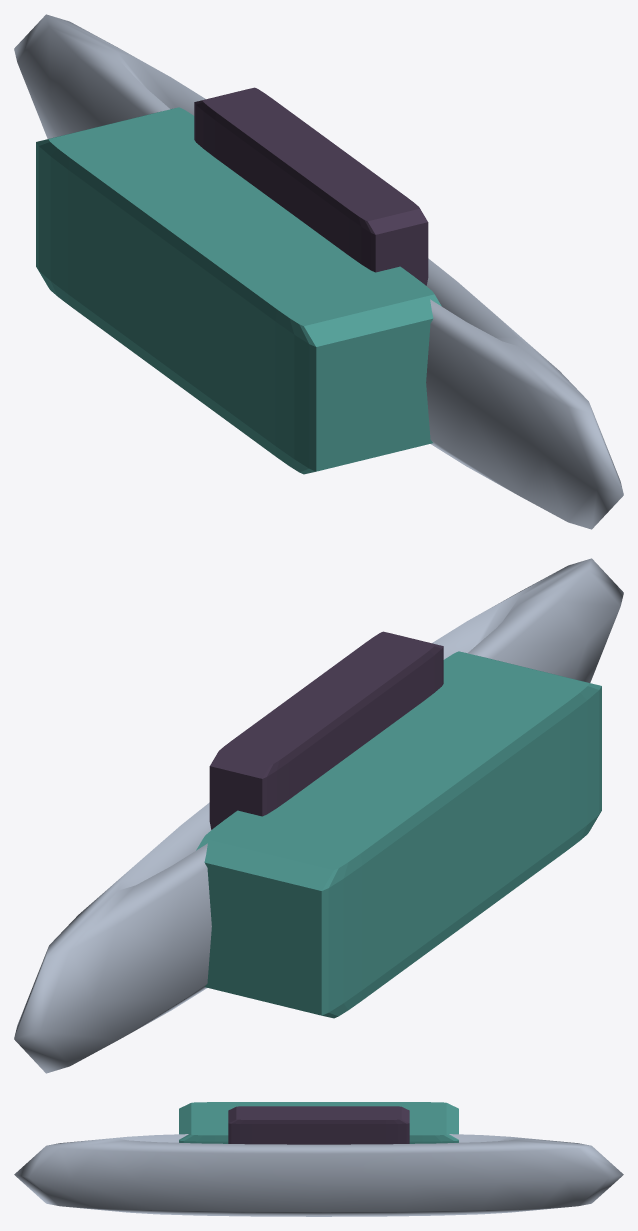
The model's file is pipe_wrench.glb.
The picture shows the model from 3 angles, top to bottom: view 1: azimuth 30°, elevation 25°; view 2: azimuth 150°, elevation 25°; view 3: azimuth 270°, elevation 25°; orthographic projection. The views are drawn at different scales.
Parts seen in each view (by area): view 1: model; view 2: model; view 3: model.
Boxes of the visible parts, x1,y1,x2,y2 form: model: (14, 14, 623, 529); model: (14, 558, 623, 1073); model: (14, 1102, 623, 1216).
Bounding box in the file's own units: 0.07 × 0.07 × 0.4.
